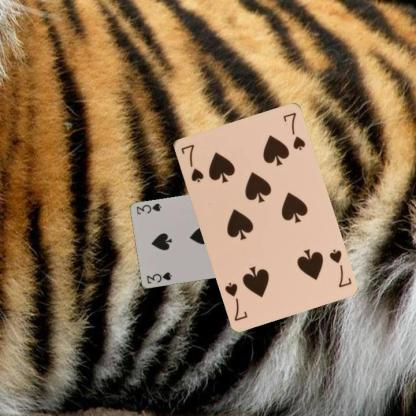3s: (144, 270, 173, 285)
7s: (178, 141, 205, 184), (326, 246, 352, 289)
